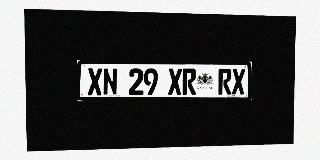2: (129, 68, 143, 95)
9: (144, 68, 158, 95)
N: (103, 68, 117, 95)
R: (182, 68, 196, 95), (218, 69, 232, 95)
X: (87, 68, 102, 95), (168, 68, 182, 95), (232, 69, 245, 94)
